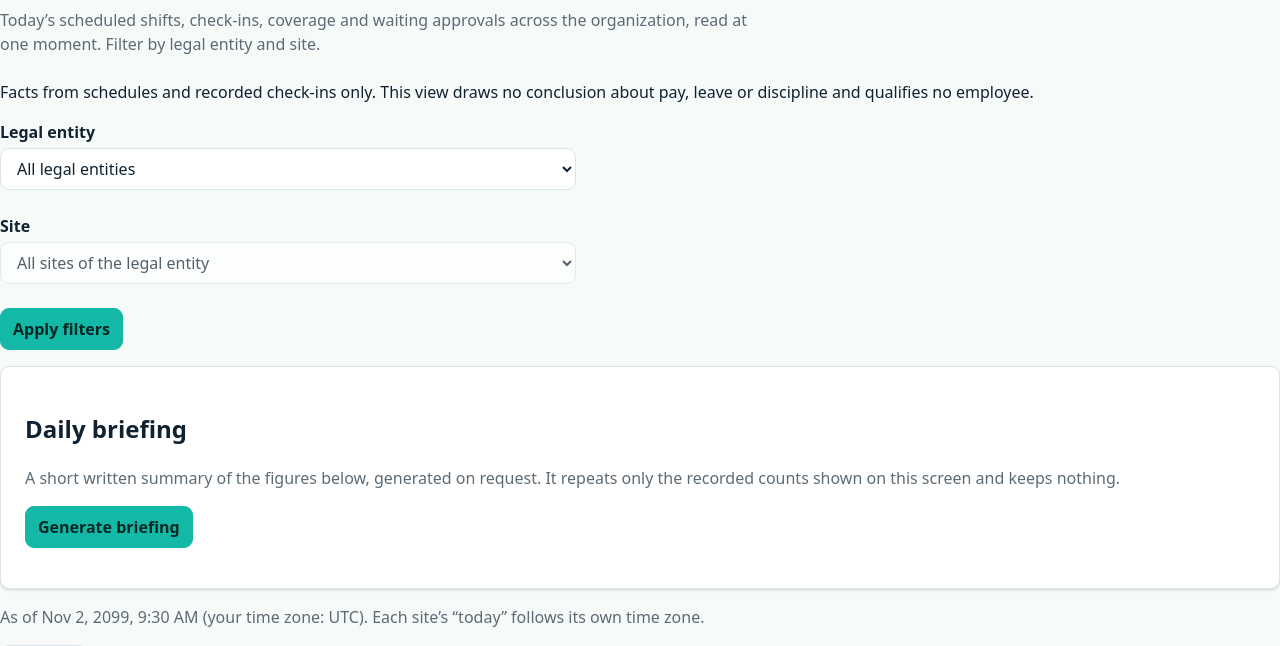
Test case: MVP-101 daily briefing (en) › sends the applied filters of the organization view and discards the briefing on change
The width and height of the screenshot is (1280, 646).
Step 1. Click the button "Generate briefing" → (109, 527), box [25, 506, 193, 548]
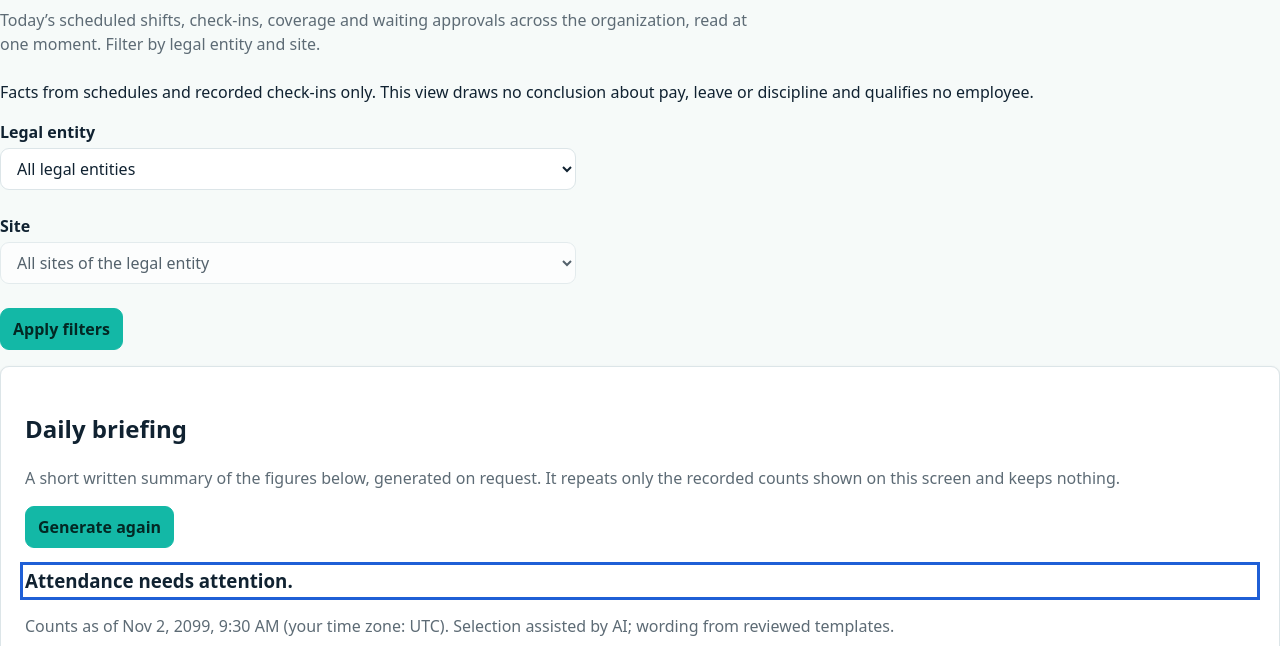
Step 2. Select "Dival RDC (DRC)" in the dropdown labelled "Legal entity" → (288, 169), box [0, 148, 576, 190]
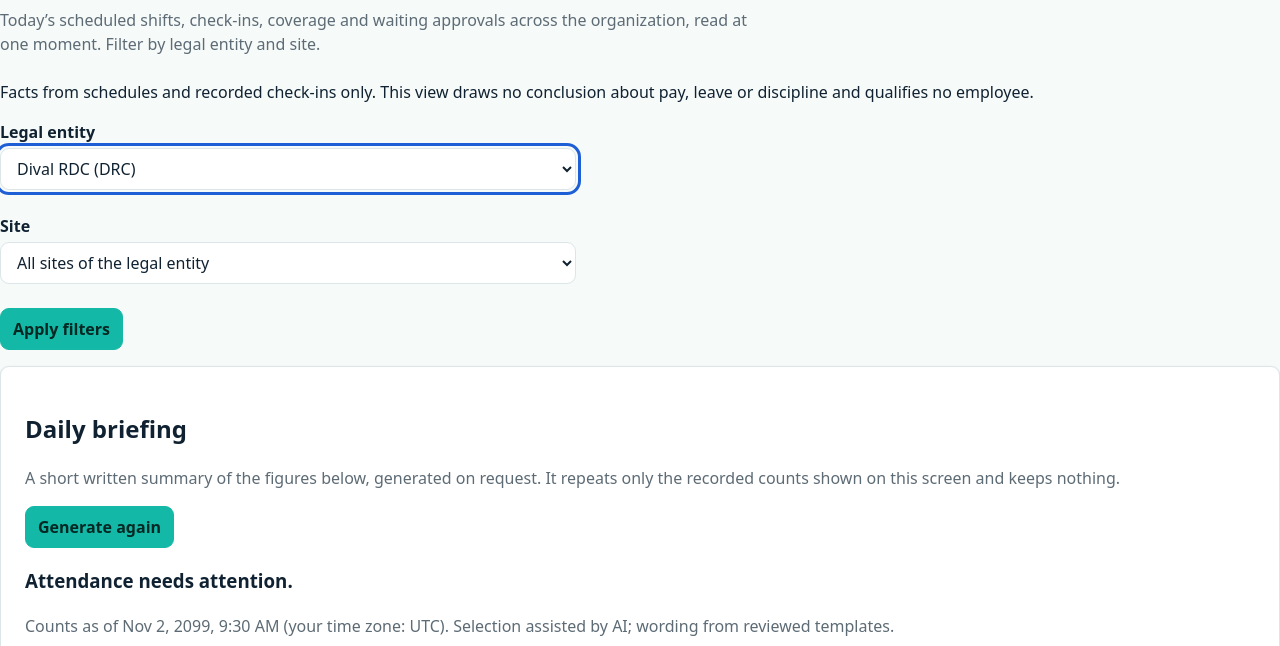
Step 3. Click the button with test id "operations-status-apply" → (62, 329), box [0, 308, 123, 350]
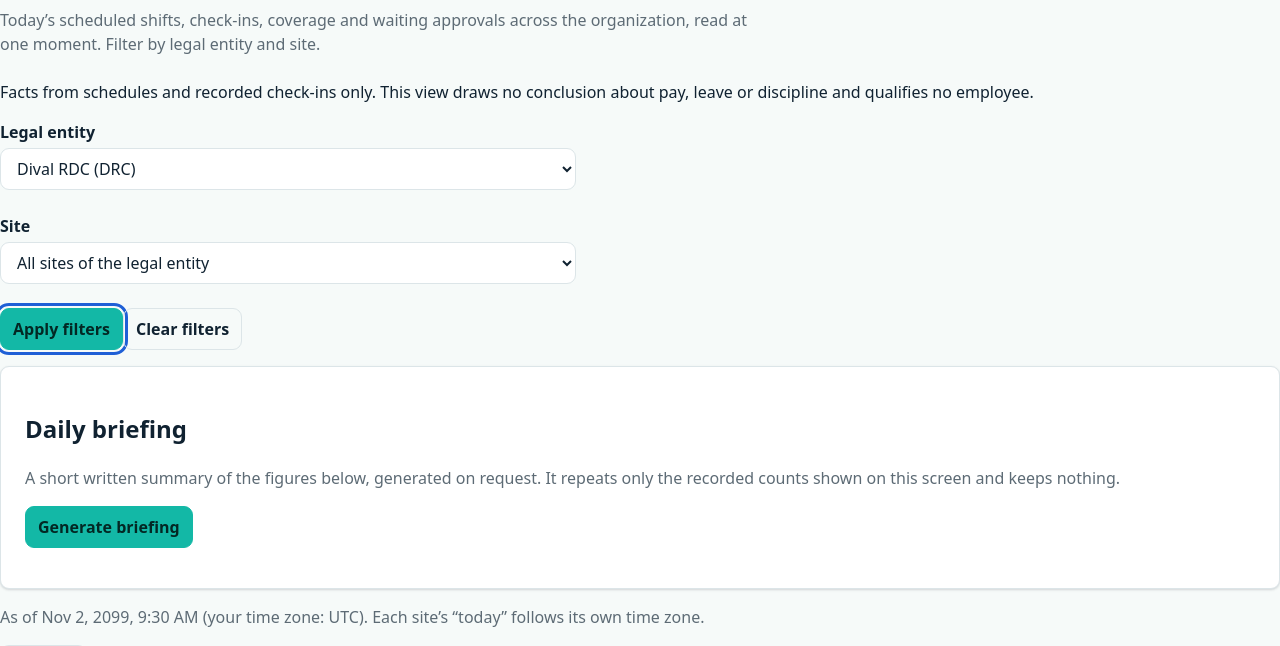
Step 4. Click the button "Generate briefing" → (109, 527), box [25, 506, 193, 548]
(page scrolled)
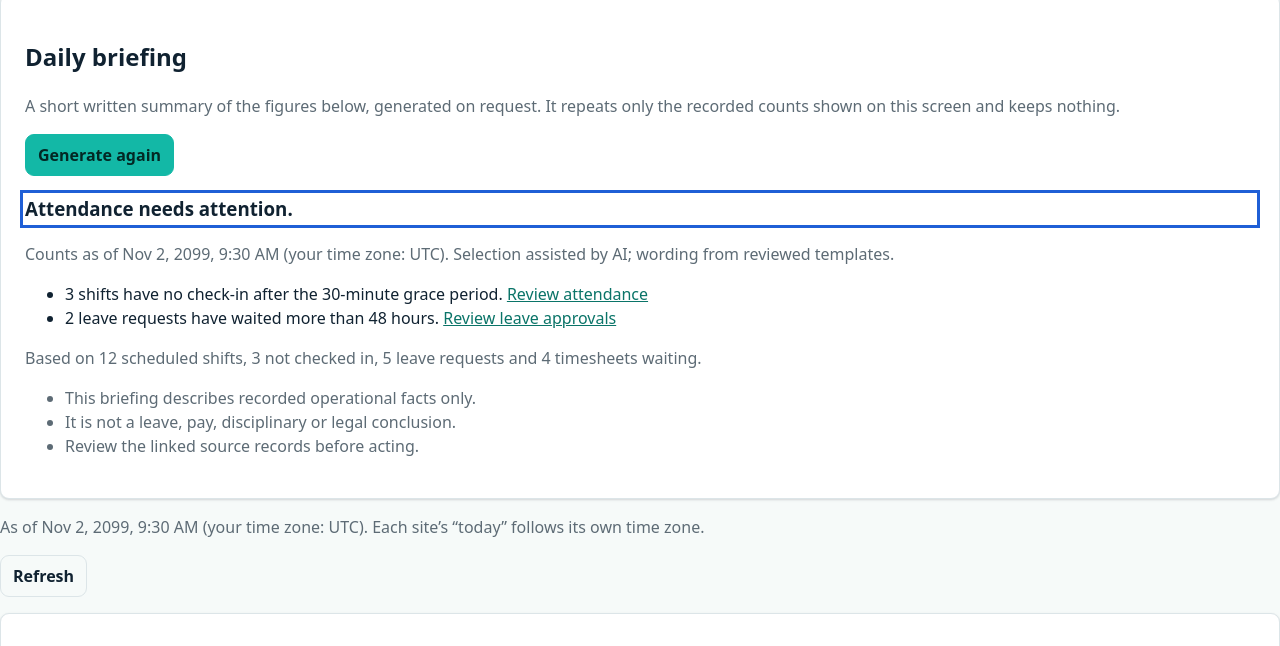
expect the element with test id "operational-summary-result" is shown: met, box [25, 196, 894, 457]
